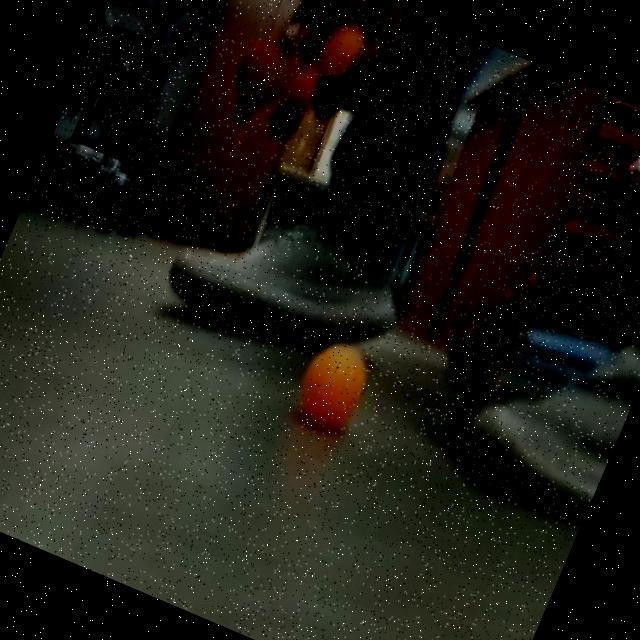ping-pong-ball: (286, 332, 377, 438), (225, 27, 302, 112), (308, 12, 377, 98)
